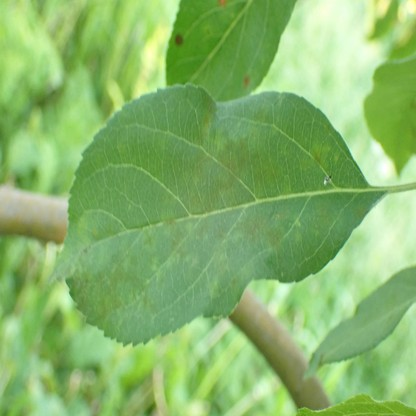frogeye_leaf_spot: (175, 35, 183, 46), (243, 76, 249, 89), (219, 0, 226, 5)
scab: (73, 254, 153, 313), (217, 132, 250, 192), (235, 216, 263, 239), (212, 232, 227, 272), (307, 142, 330, 168), (191, 149, 212, 174), (171, 232, 186, 262), (264, 227, 284, 247), (254, 104, 266, 127), (206, 275, 217, 297), (197, 217, 209, 237), (201, 115, 211, 137), (162, 213, 174, 227), (143, 232, 155, 246)
